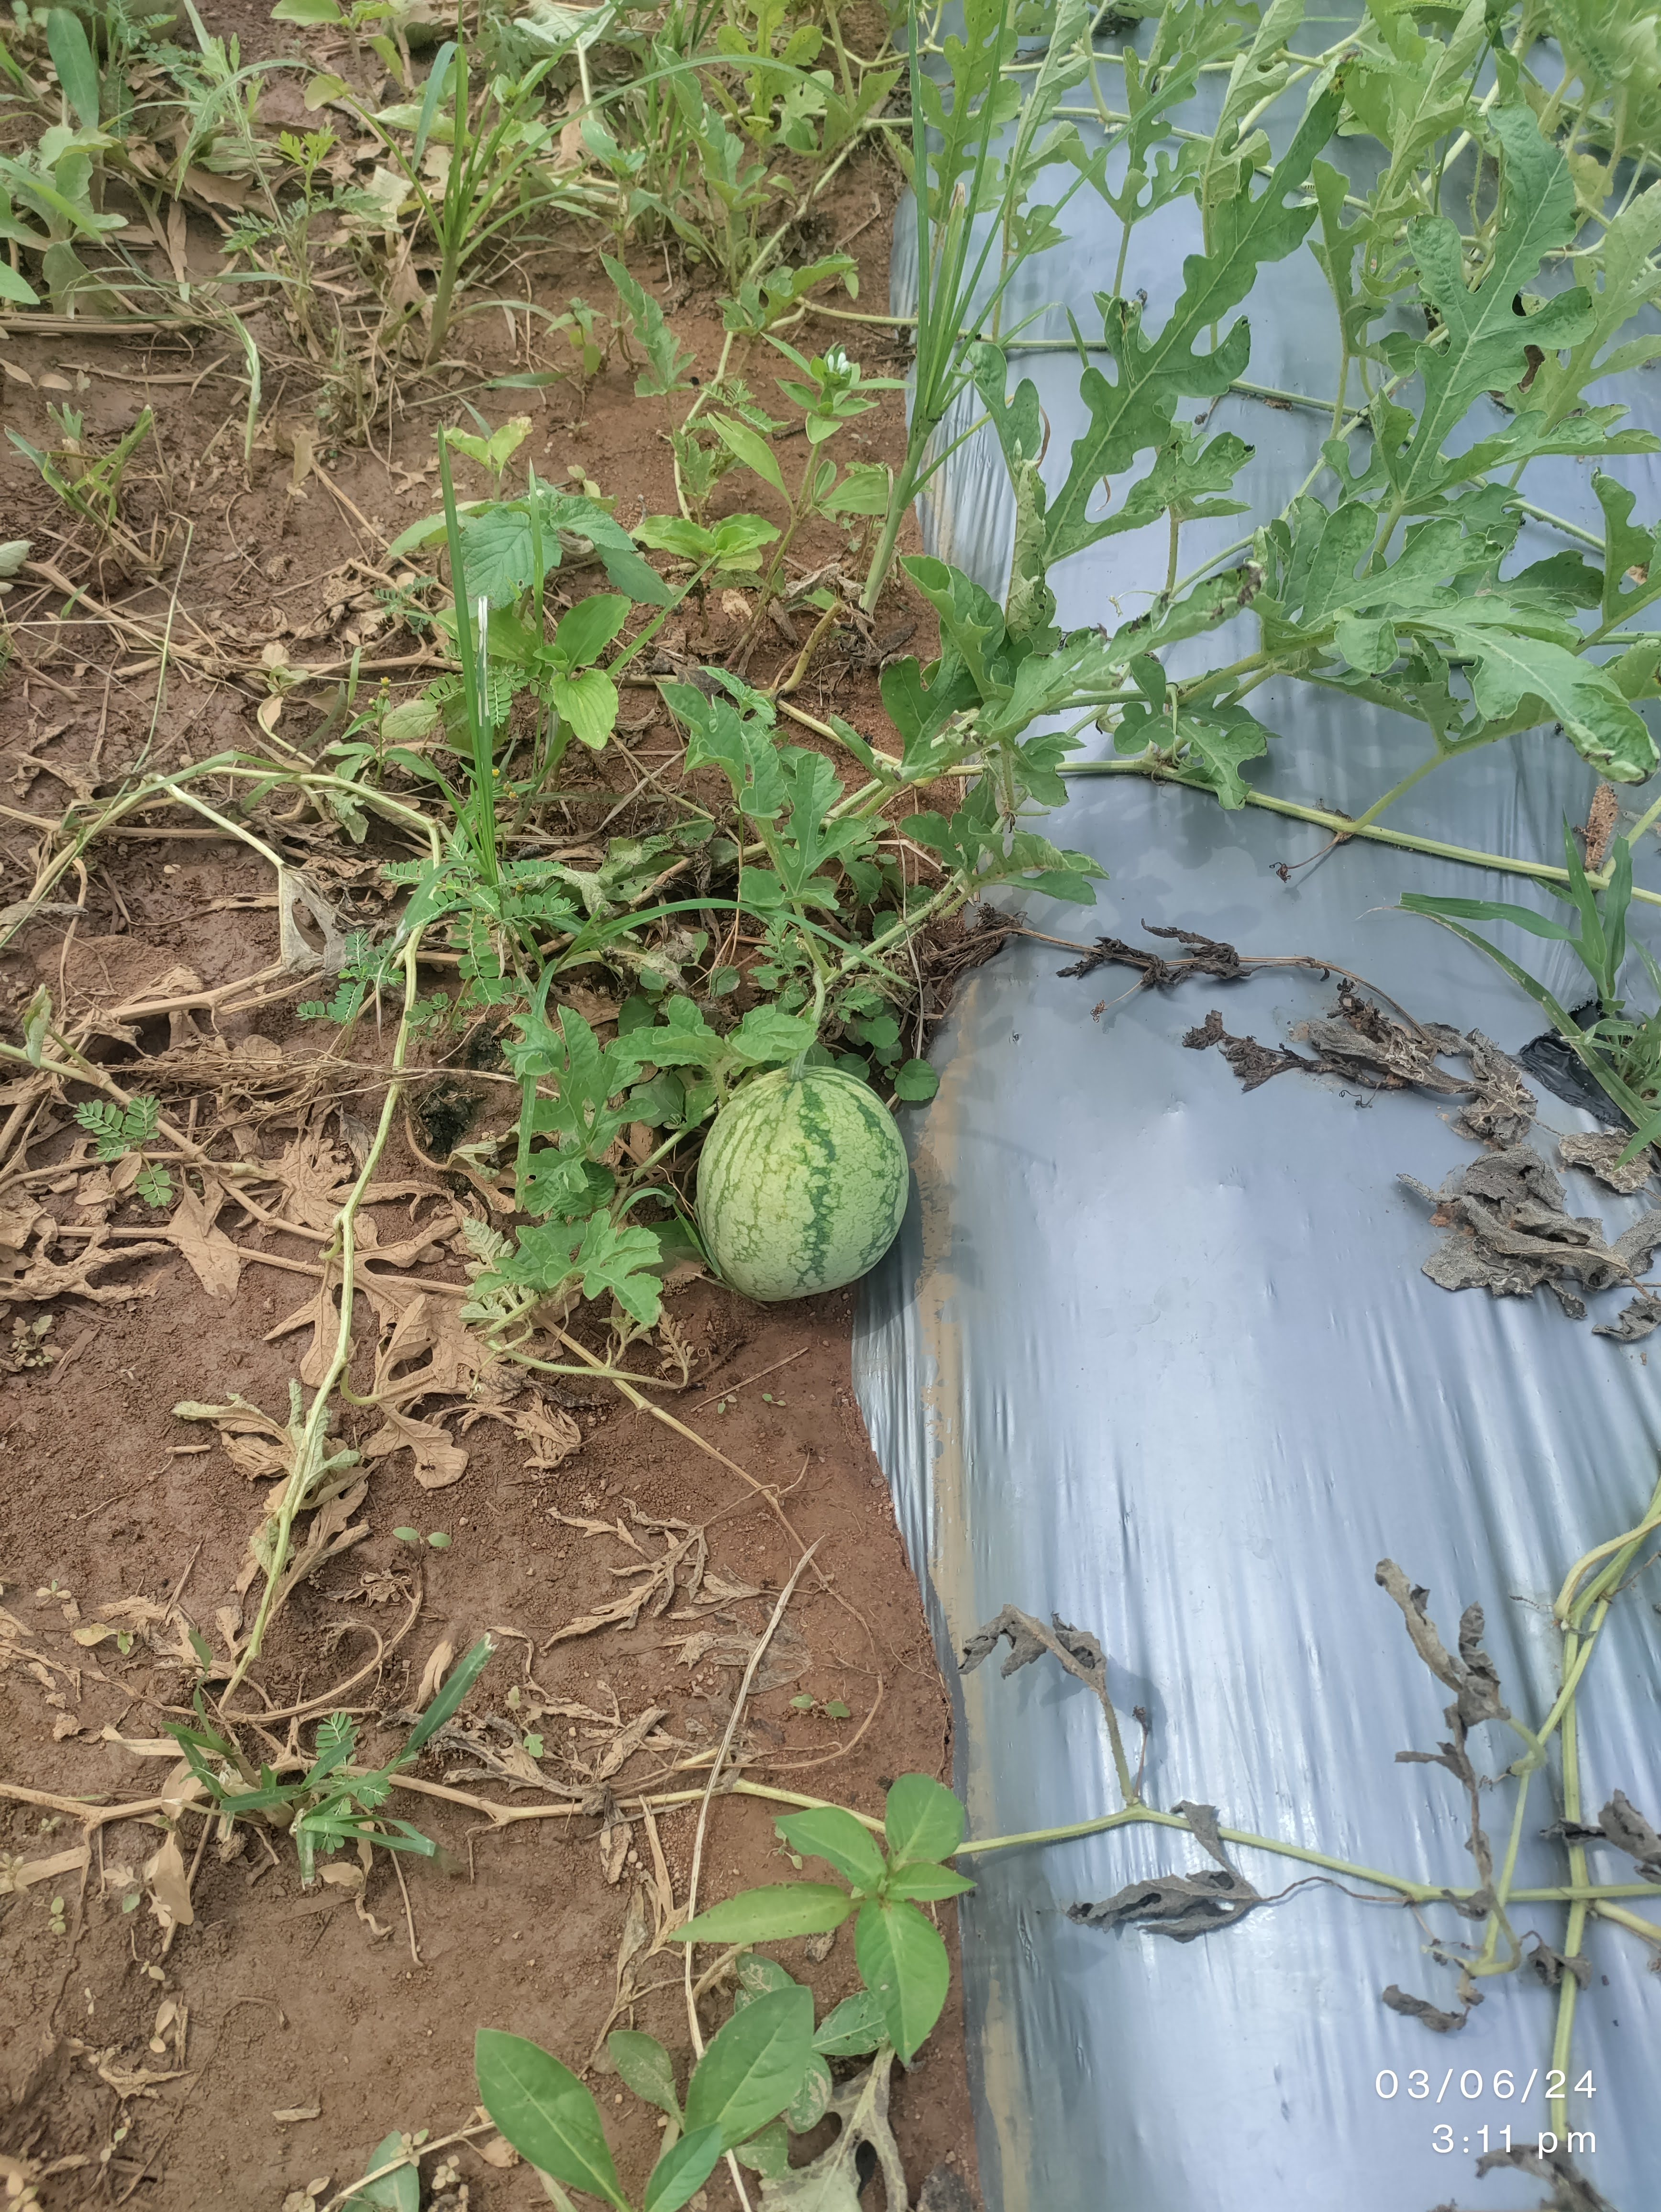good-to-harvest: (675, 1029, 981, 1343)
